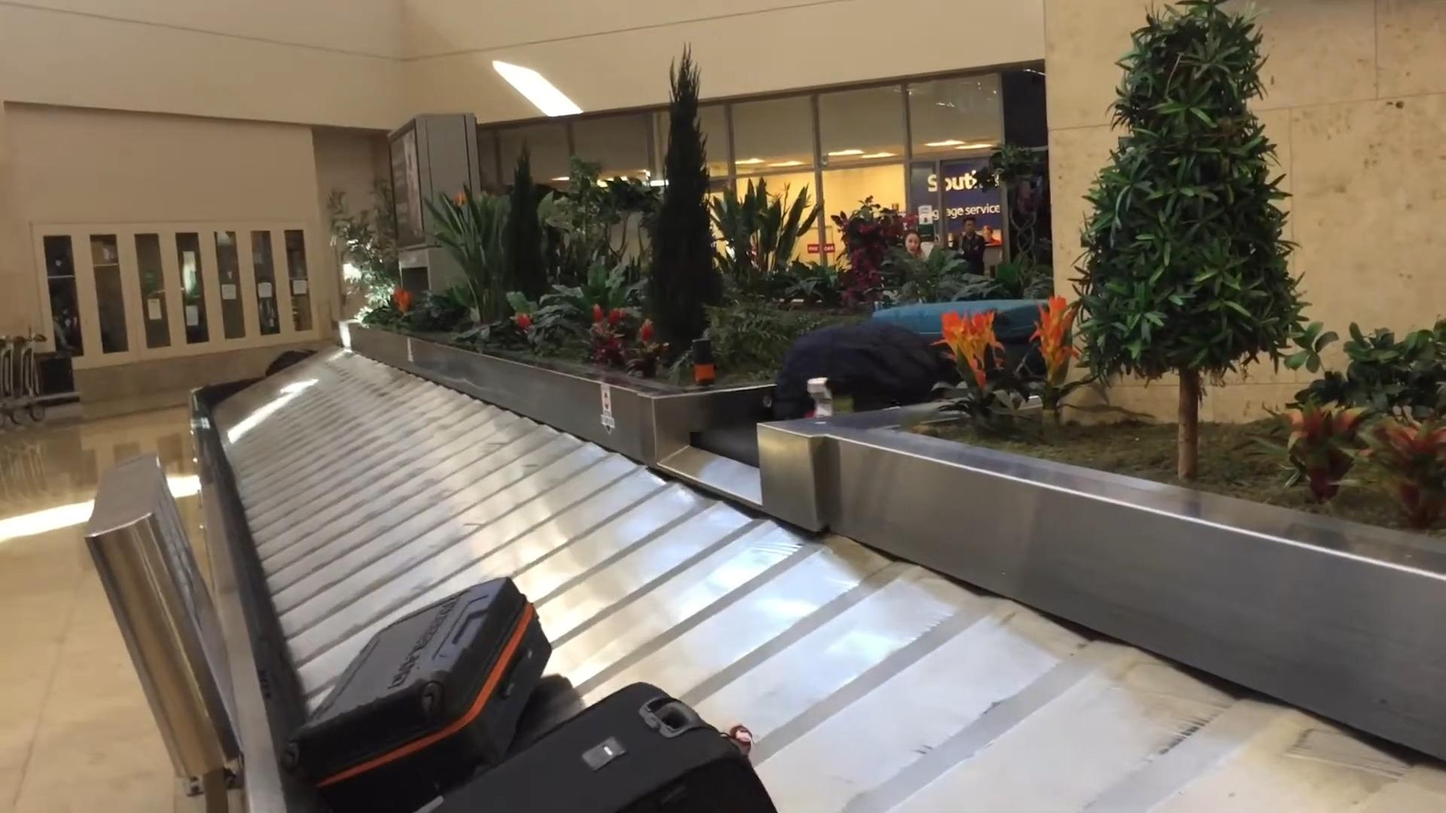luggage: (291, 574, 553, 809), (415, 677, 781, 813), (770, 323, 961, 418), (870, 298, 1060, 386), (265, 348, 320, 374)
